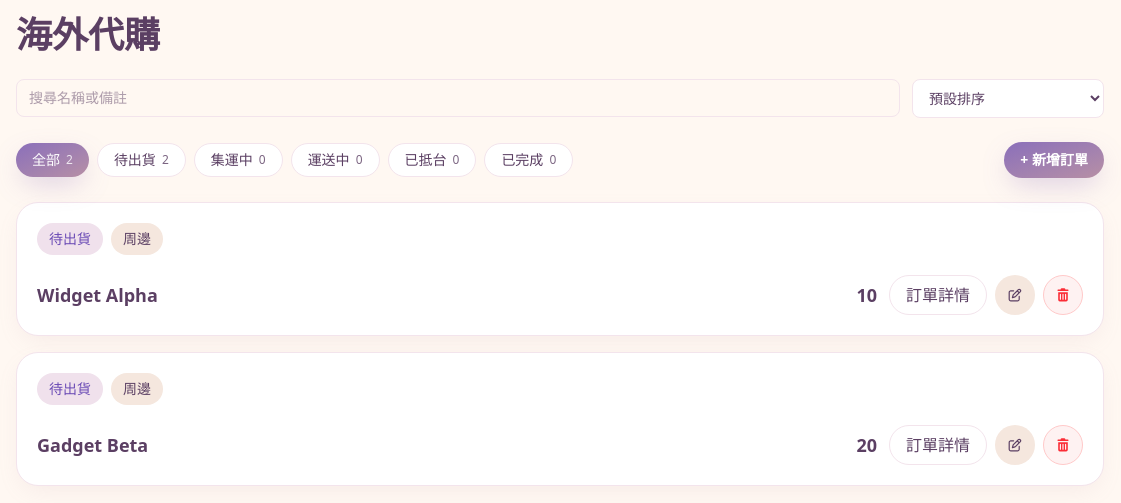
Test case: OrderList search and sort › filters the list by search keyword
Type "Widget" into the field with placeholder "搜尋名稱或備註" at (458, 98), box [16, 79, 900, 117]
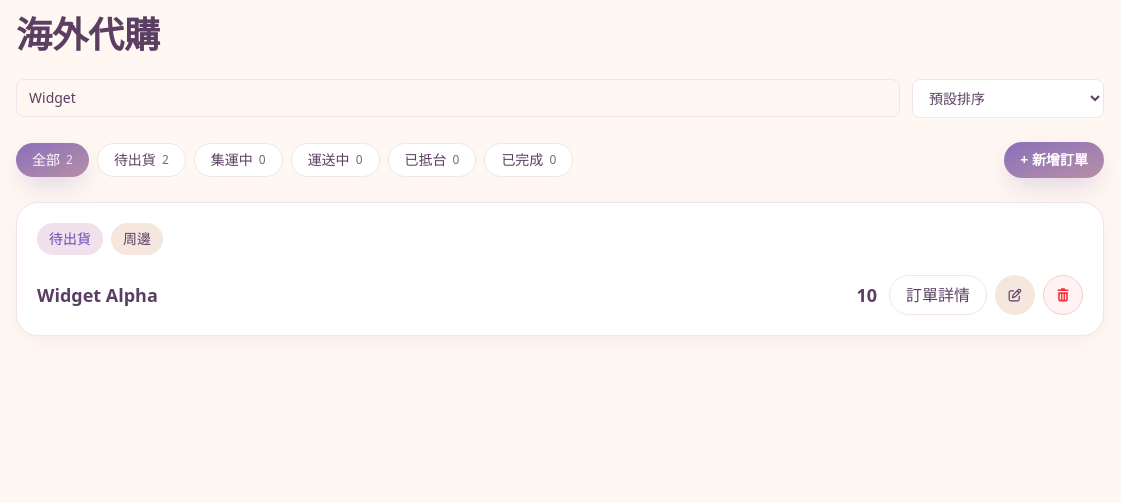
Expected: the text "Widget Alpha" is shown, [37, 281, 158, 309]
Now the text "Gadget Beta" is gone
